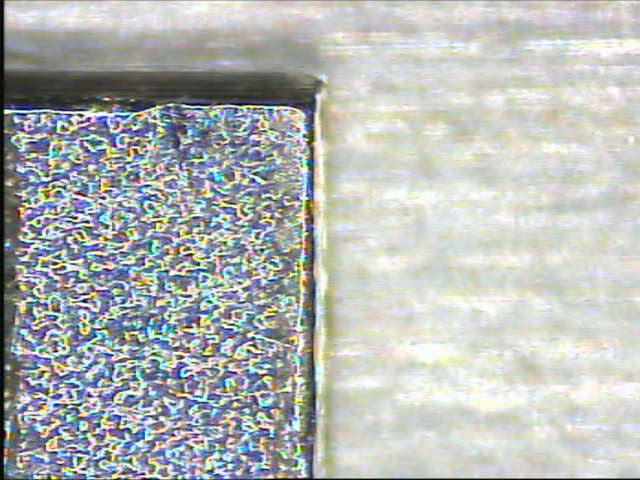edge: (294, 68, 333, 473)
